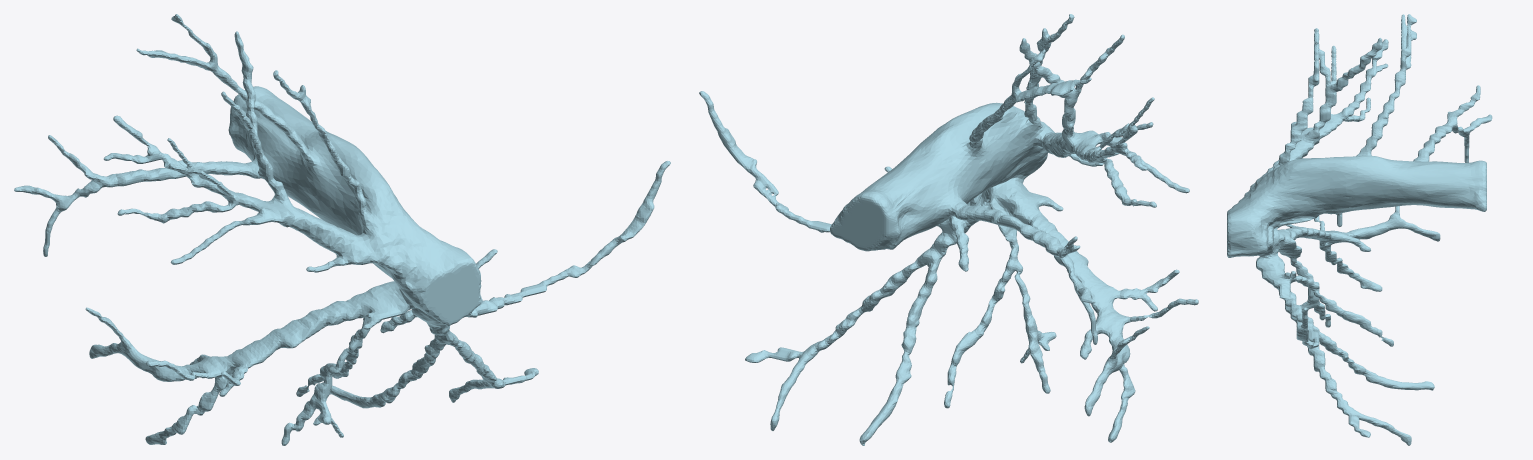
File: venacava.obj
3 views of the same model, side by side, from view 1: azimuth 30°, elevation 25°; view 2: azimuth 150°, elevation 25°; view 3: azimuth 270°, elevation 25° (orthographic). The views are drawn at different scales.
Parts seen in each view (by area): view 1: grp1; view 2: grp1; view 3: grp1.
Part boxes in pixels (left/top/right/bottom): grp1: left=14, top=14, right=670, bottom=445; grp1: left=699, top=14, right=1198, bottom=445; grp1: left=1227, top=14, right=1492, bottom=445.
Size of the model in its own units: 193 by 159 by 126.
